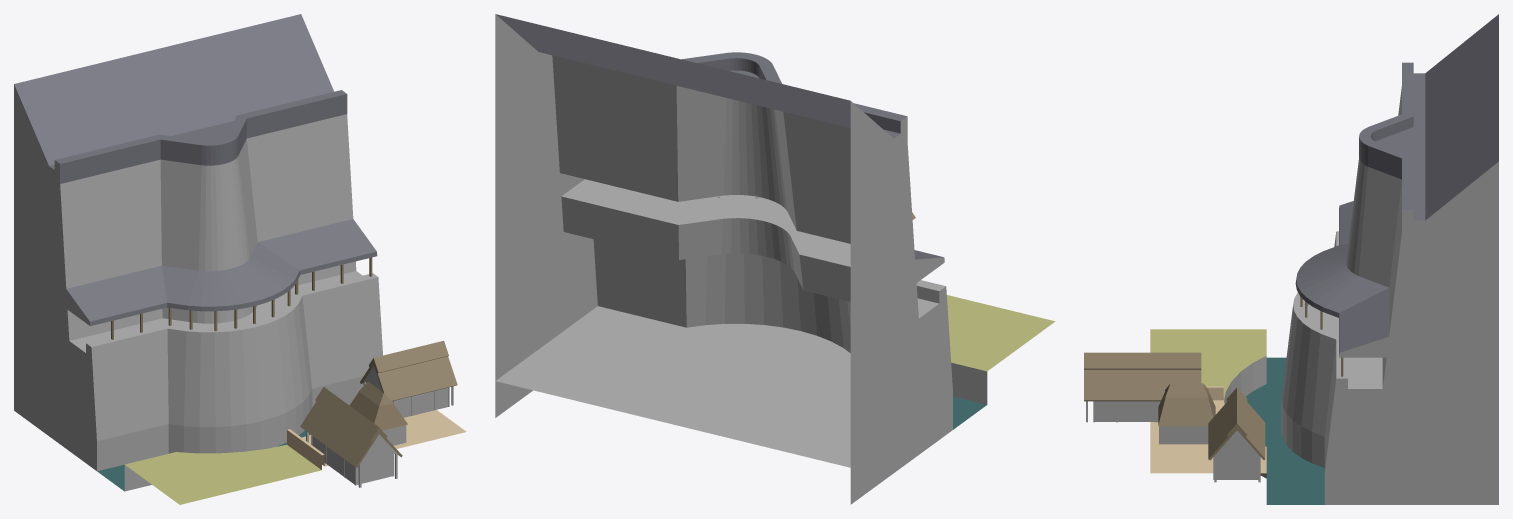
3 renders of one model, left to right at view 1: azimuth 30°, elevation 25°; view 2: azimuth 150°, elevation 25°; view 3: azimuth 270°, elevation 25°, orthographic. The views are drawn at different scales.
Visible parts, largest first — view 1: cc1w; view 2: cc1w; view 3: cc1w.
Part boxes in pixels (x1,y1,x2,y2): cc1w: (14, 14, 466, 504); cc1w: (495, 14, 1055, 504); cc1w: (1084, 14, 1498, 504).
Size of the model in its own units: 31.93 by 32.63 by 35.7.
